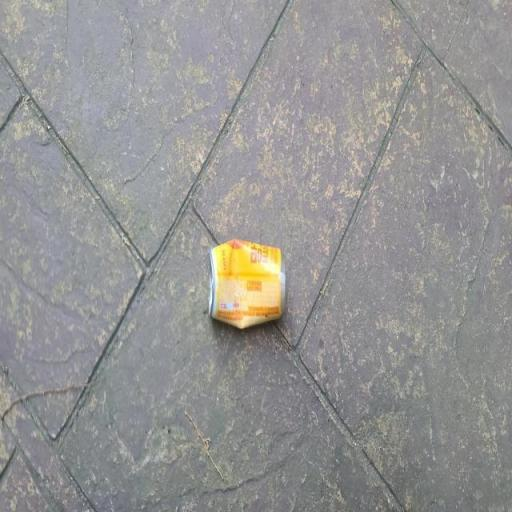metal: (198, 226, 298, 344)
